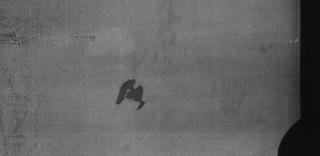oil spot: (113, 78, 149, 110)
rolled pit: (245, 30, 299, 58)
